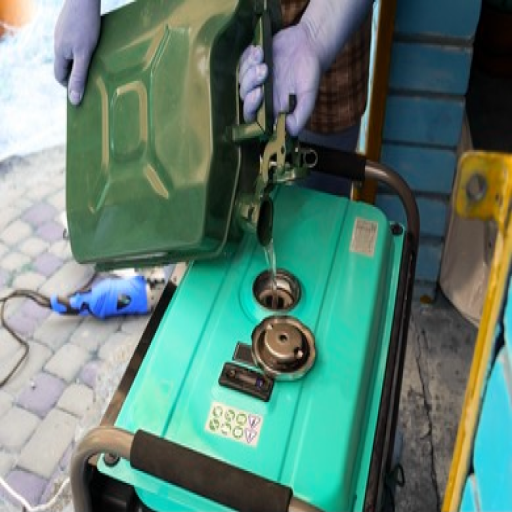portable_generator: (71, 138, 422, 512)
